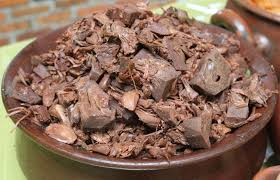Gudeg: (17, 8, 268, 159)
